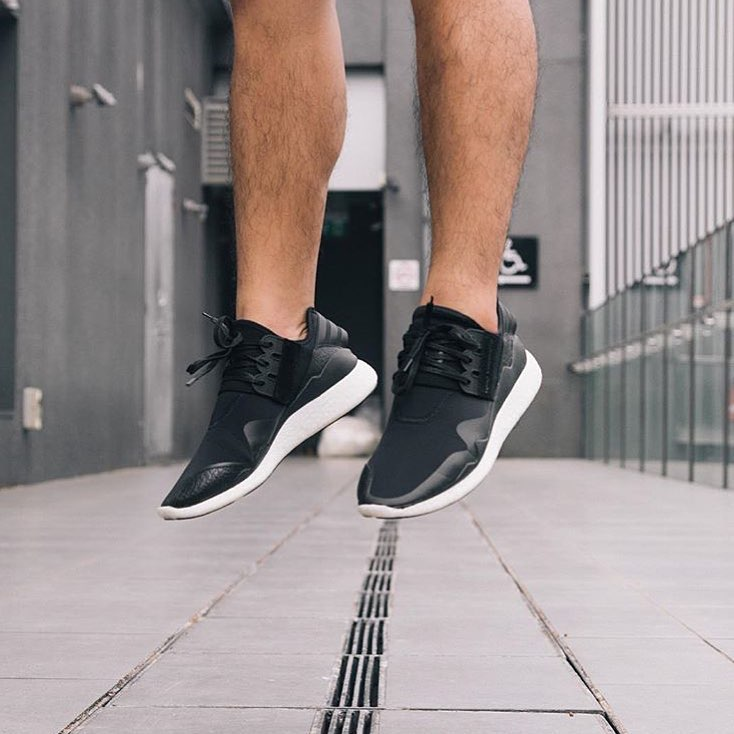sneaker: (144, 281, 397, 538), (340, 282, 553, 534)
